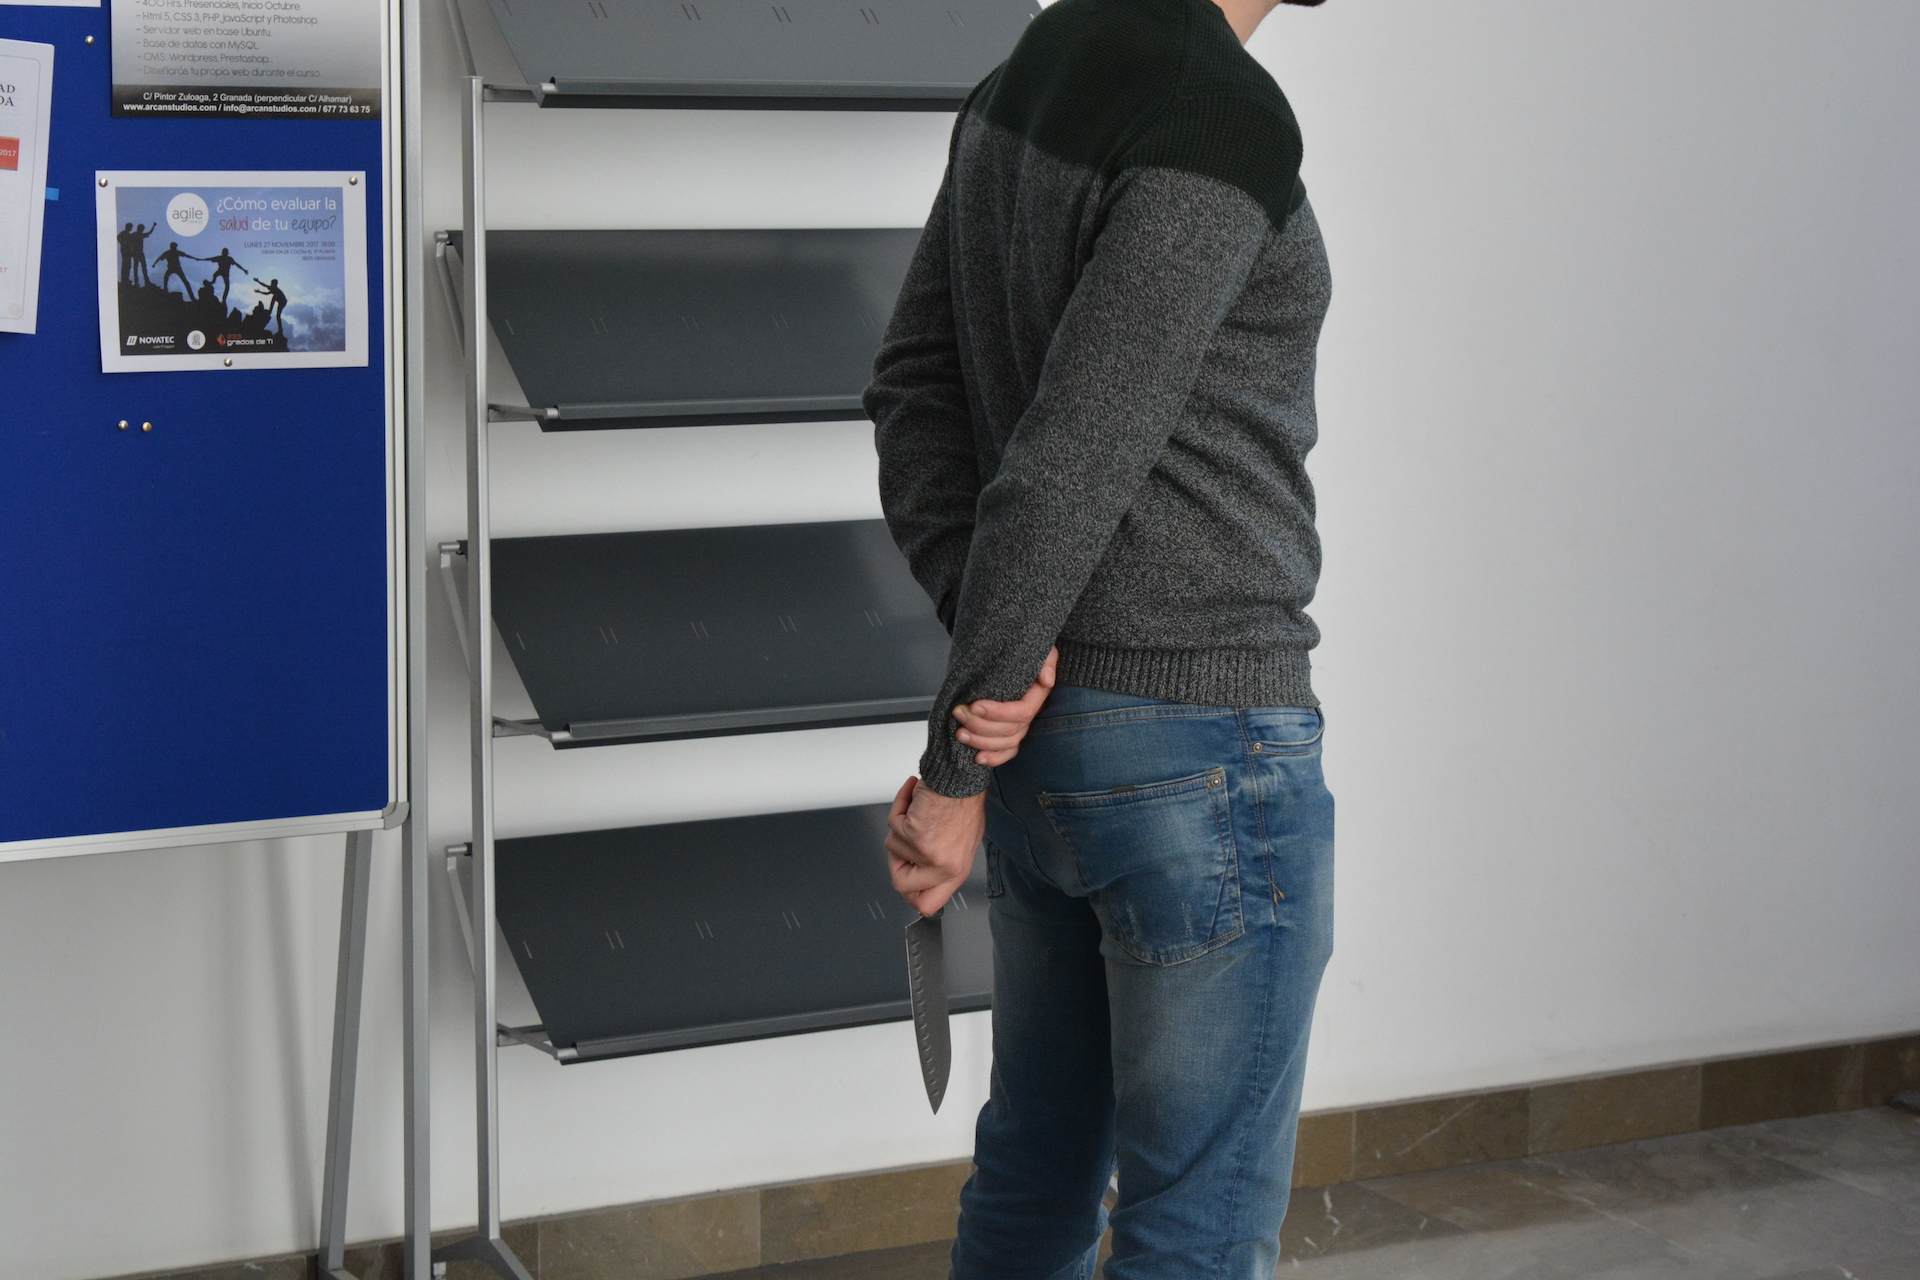knife: (894, 881, 959, 1126)
